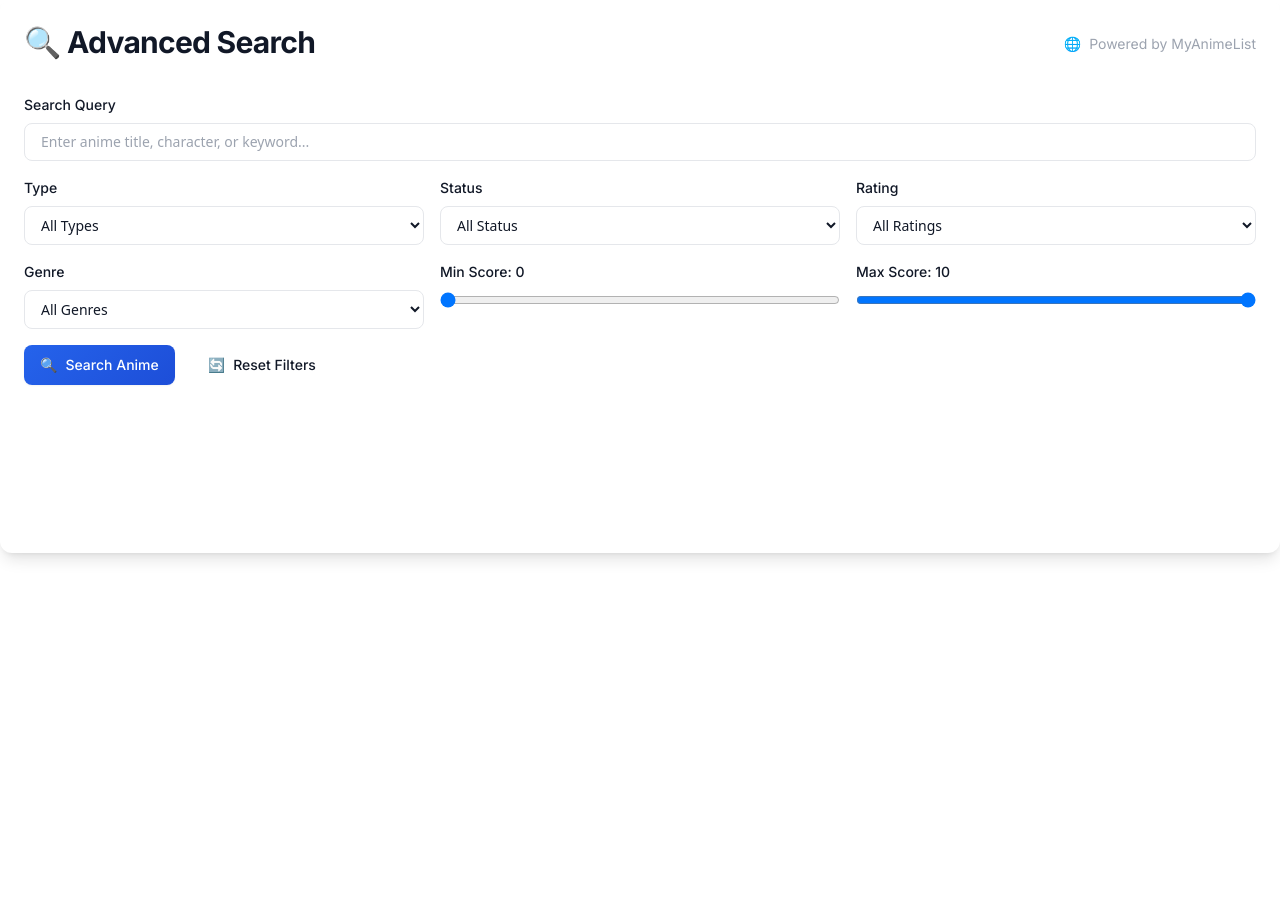
Scenario: AdvancedSearch Component › Search UI States › should show no results message when search returns empty
# Add a search query to pass validation
Step 1. Type "nonexistent" into the field with placeholder "Enter anime title, character, or keyword..." → (640, 142), box [24,122,1256,160]
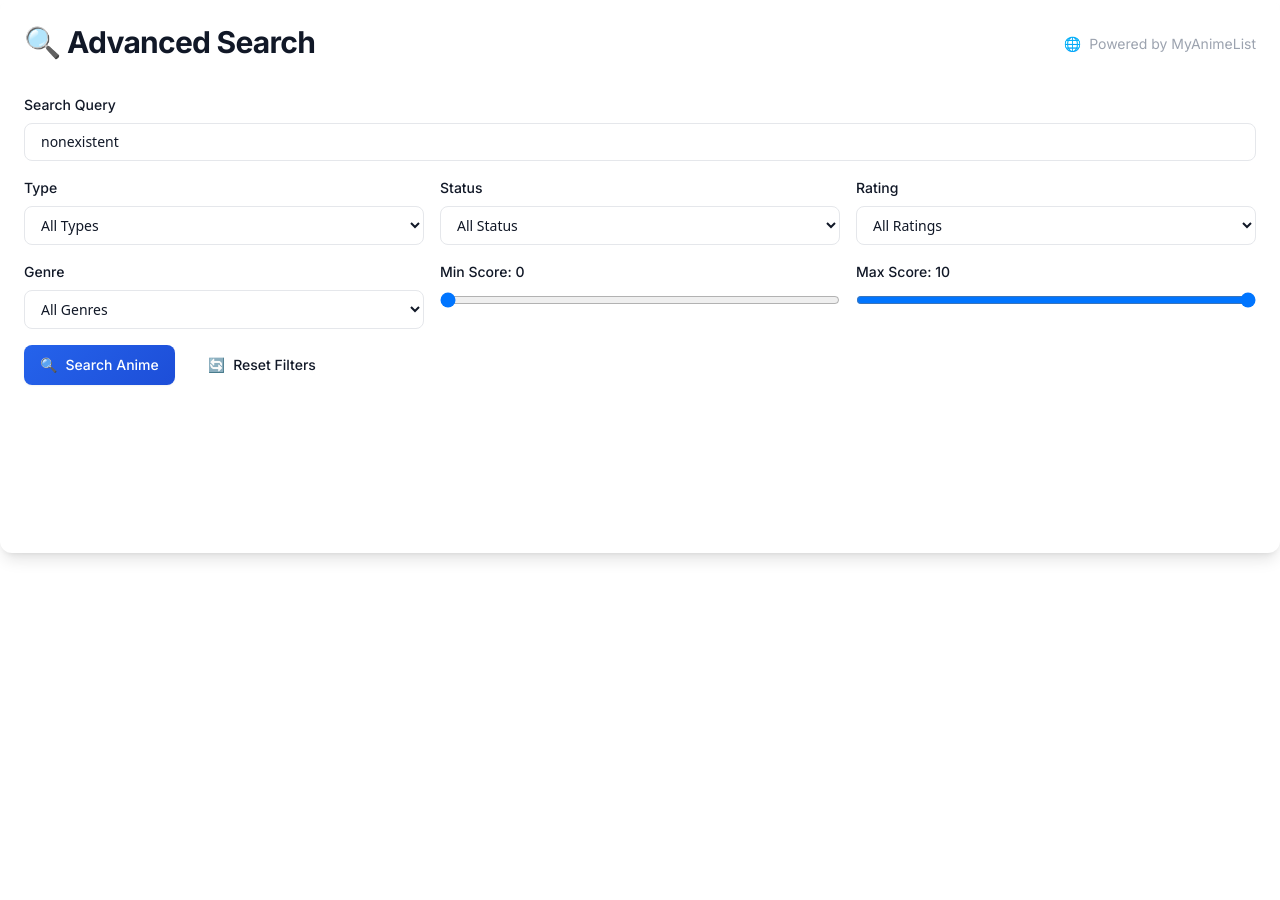
Step 2. Click the button "🔍Search Anime" → (99, 364), box [24,344,175,384]
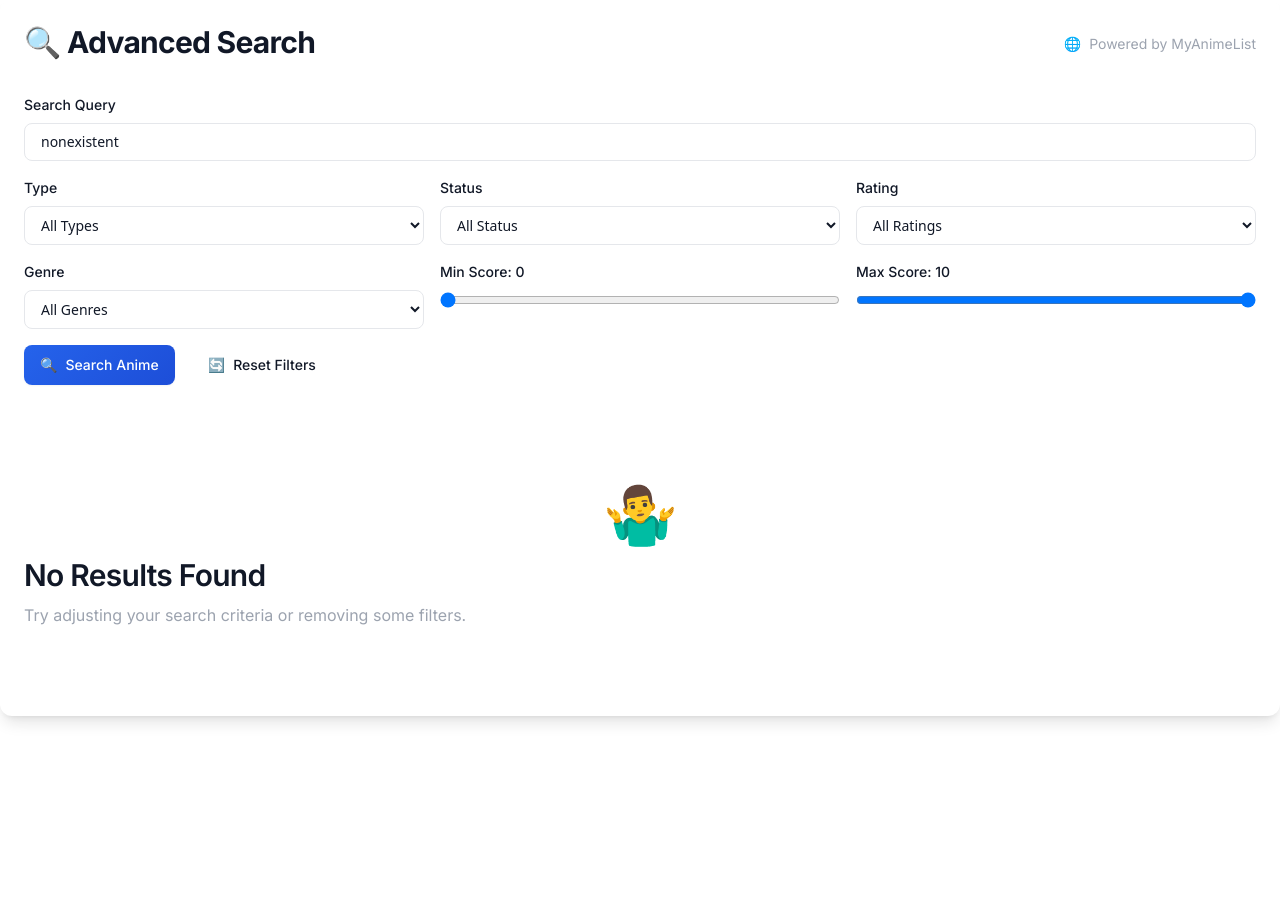
expect the heading "No Results Found" is shown: met, box [24,556,265,592]
